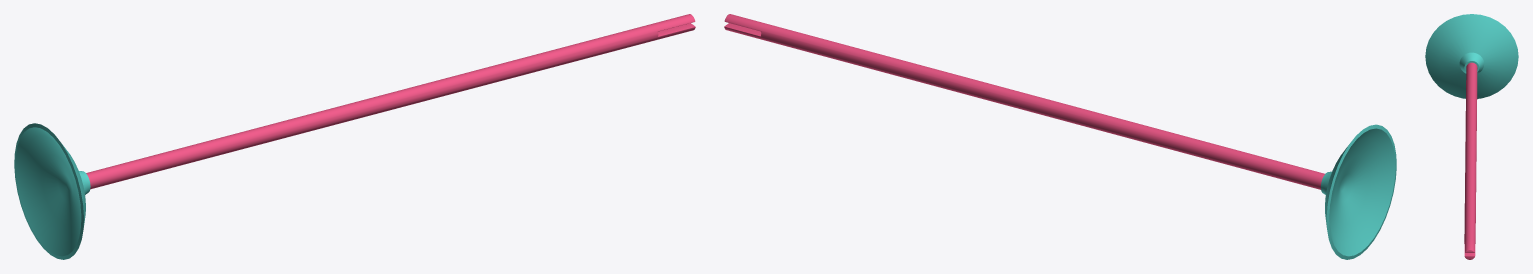
The model's file is bolt.fbx.
3 views of the same model, side by side, from view 1: azimuth 30°, elevation 25°; view 2: azimuth 150°, elevation 25°; view 3: azimuth 270°, elevation 25° (orthographic). The views are drawn at different scales.
Visible parts, largest first — view 1: Cylinder.004, Cylinder.003; view 2: Cylinder.004, Cylinder.003; view 3: Cylinder.003, Cylinder.004.
Boxes of the visible parts, x1,y1,x2,y2 form: Cylinder.004: (86, 14, 695, 189); Cylinder.003: (14, 123, 90, 259); Cylinder.004: (724, 14, 1324, 189); Cylinder.003: (1320, 124, 1396, 259); Cylinder.003: (1425, 14, 1518, 98); Cylinder.004: (1464, 62, 1477, 259).
Bounding box in the file's own units: 40.9 × 7.74 × 7.74.
